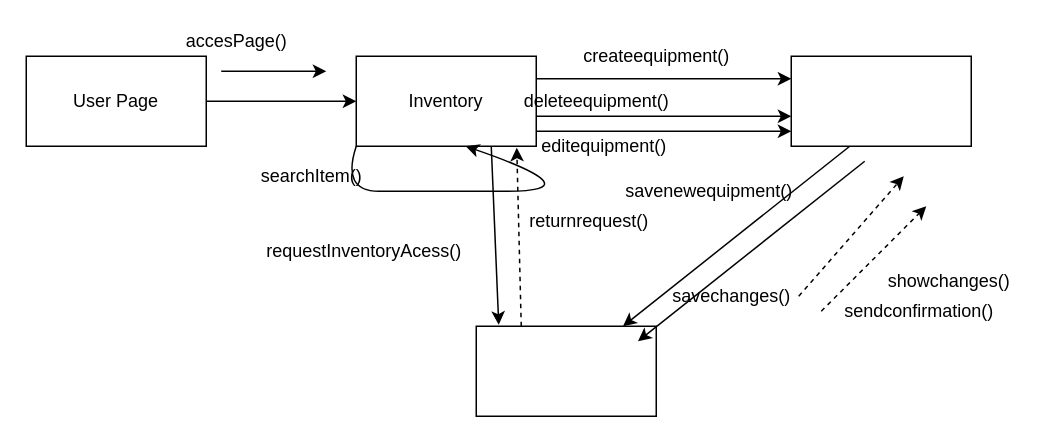
The diagram is 1050 pixels wide and 443 high, and some of its shapes have lost their labels. Here are the shapes that lost their labels. From the top down, the centre of each, then its label:
(x=880, y=100): Equipment
(x=565, y=370): Server
